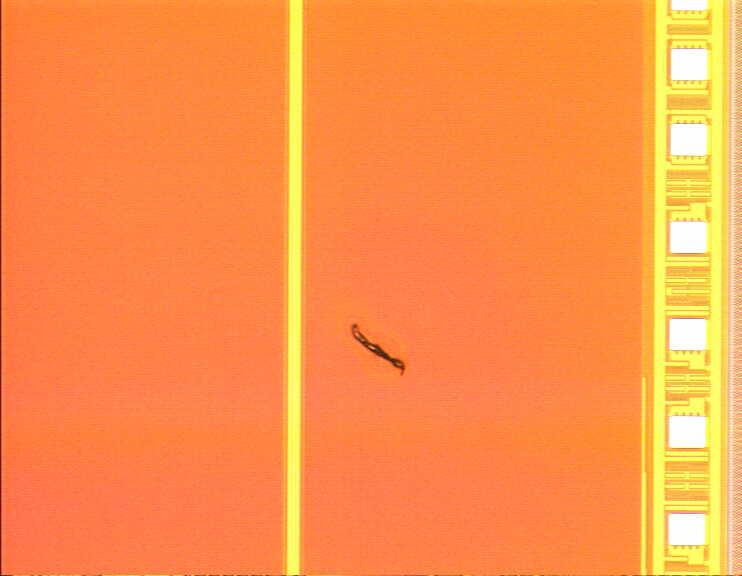PIQ PARTICLE: (346, 317, 411, 378)
